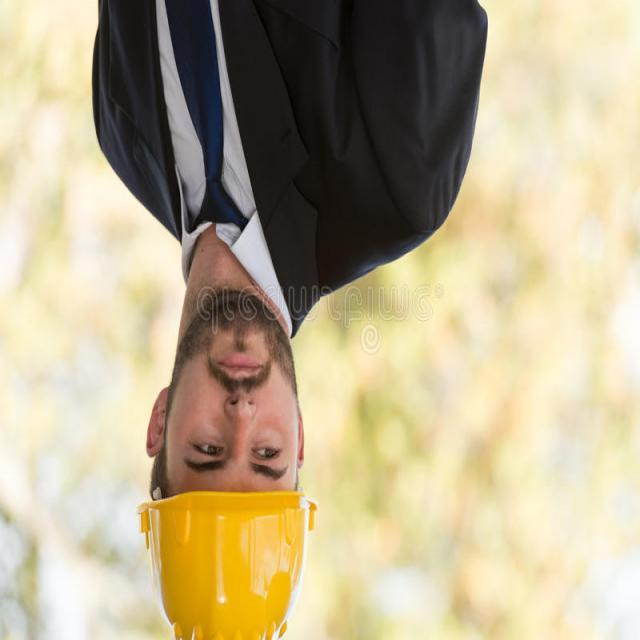safetyhelmet: (116, 303, 329, 631)
